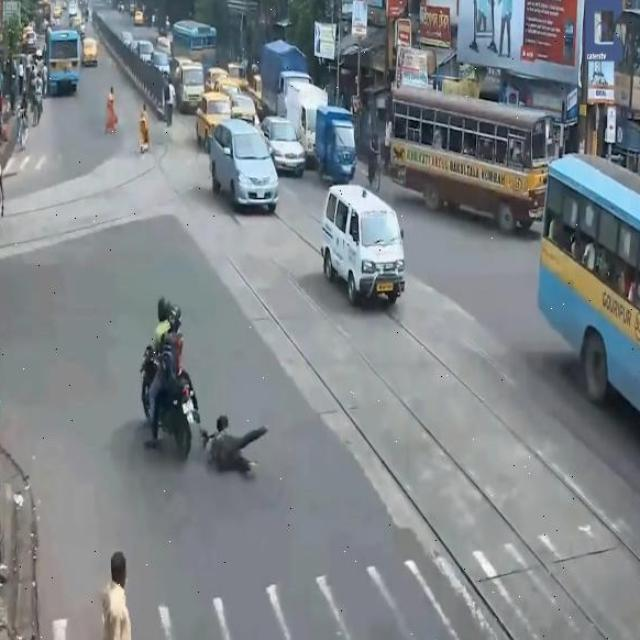accident: (194, 397, 274, 487)
